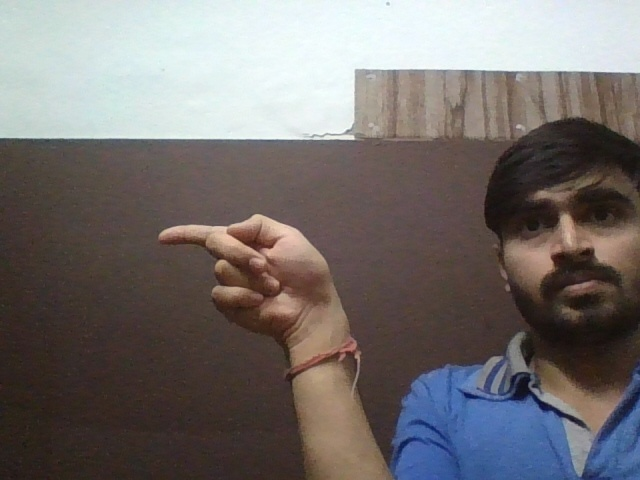G: (155, 210, 337, 341)
